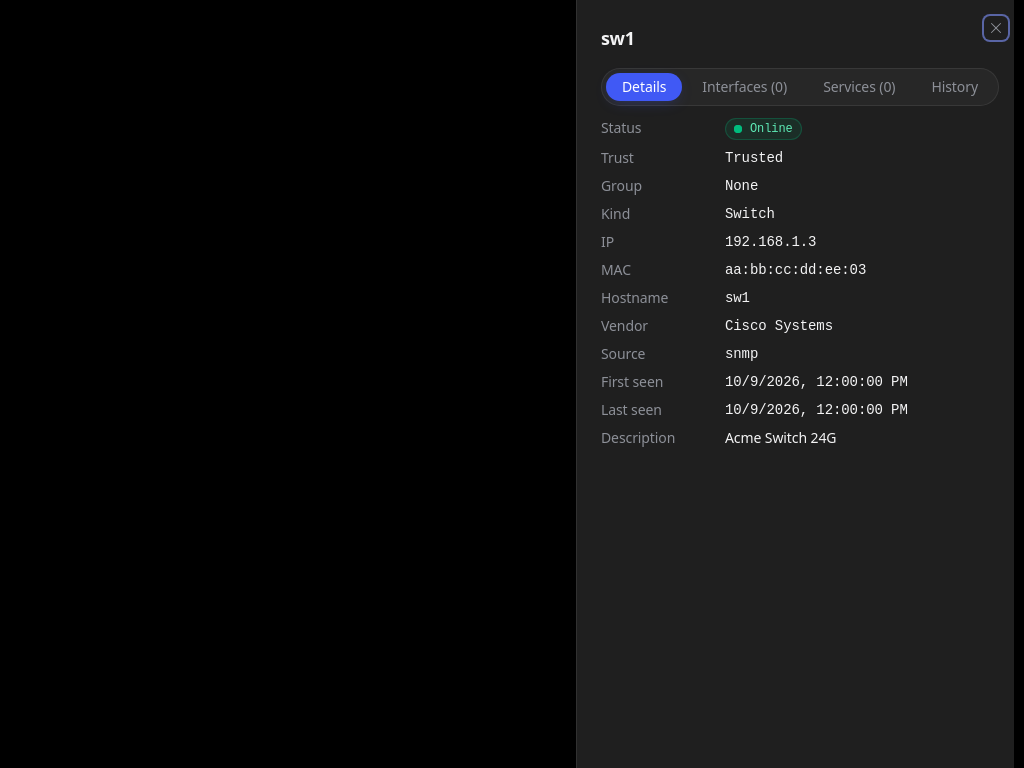
it: DevicePanel › says so when the device has no interfaces
Click the tab "Interfaces (0)": (745, 87) [686, 73, 803, 101]
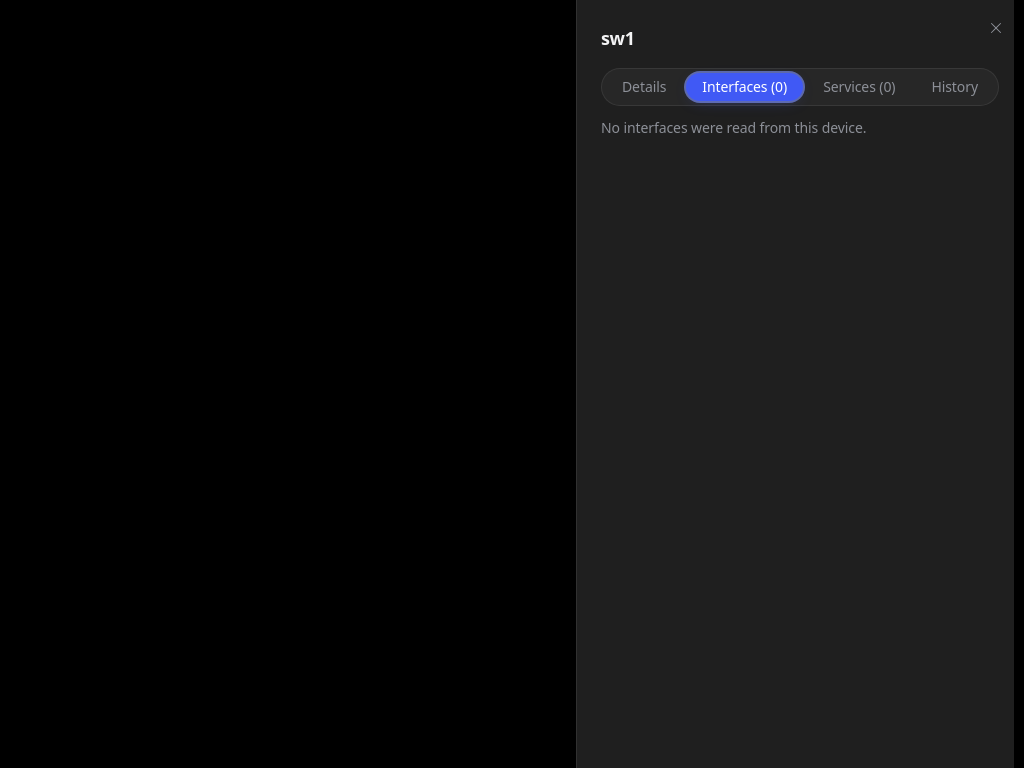
Expected: the text "No interfaces were read from this device." is shown, [601, 118, 866, 137]
